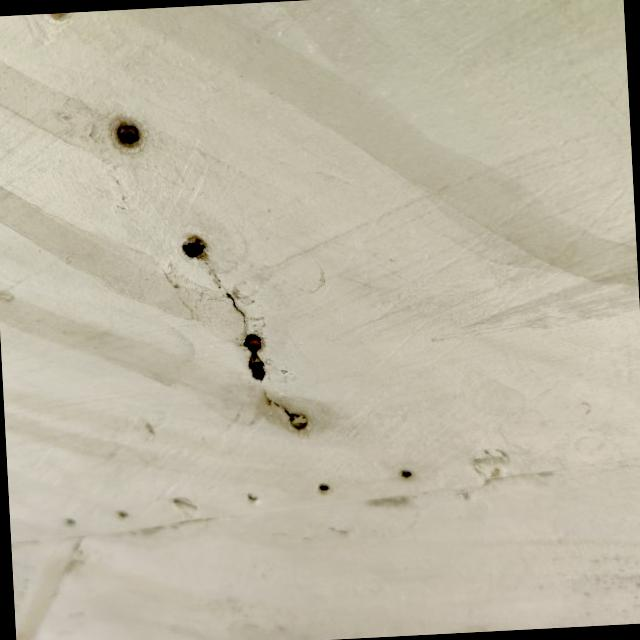crack: (146, 207, 330, 457)
